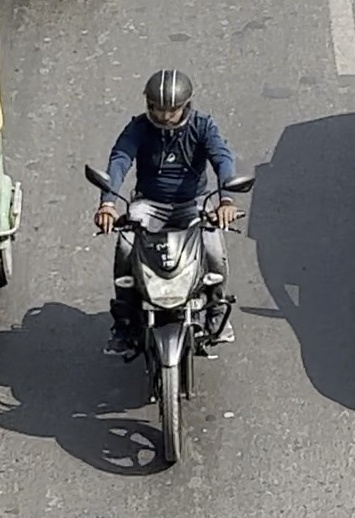BikeWithRider: (77, 62, 261, 469)
Helmet: (133, 62, 202, 133)
